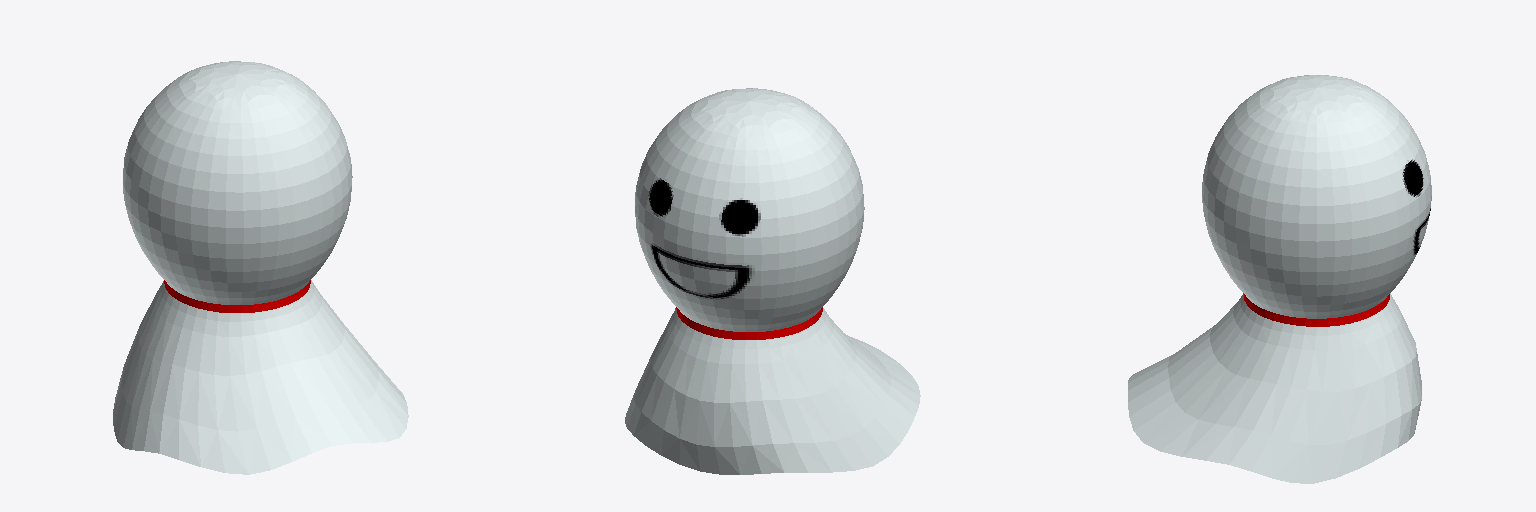
The picture shows the model from 3 angles: view 1: azimuth 30°, elevation 25°; view 2: azimuth 150°, elevation 25°; view 3: azimuth 270°, elevation 25°; orthographic projection.
Visible parts, largest first — view 1: hare; view 2: hare; view 3: hare.
Boxes of the visible parts, x1=… form: hare: x1=113, y1=61, x2=408, y2=474; hare: x1=625, y1=88, x2=920, y2=474; hare: x1=1128, y1=75, x2=1431, y2=483.
Size of the model in its own units: 2.72 by 3.41 by 2.79.
Materials: 1 (1 with a texture image).